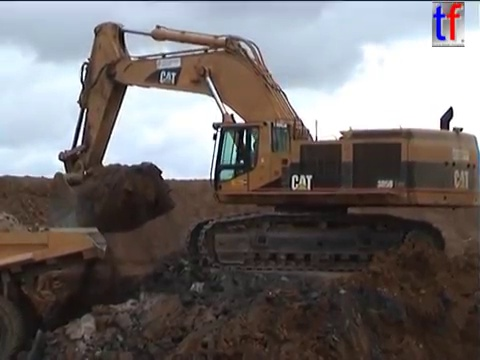excavator: (45, 18, 480, 277)
truck: (1, 222, 109, 360)
